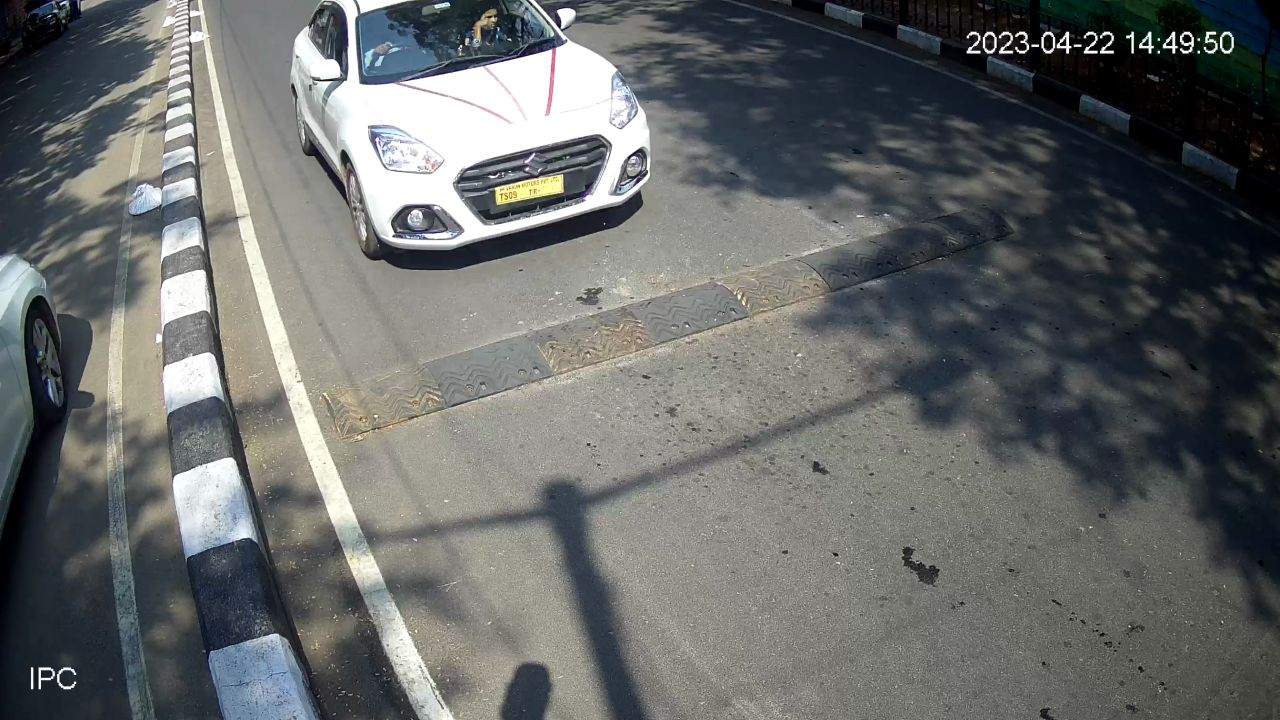license_plate: (493, 168, 566, 209)
